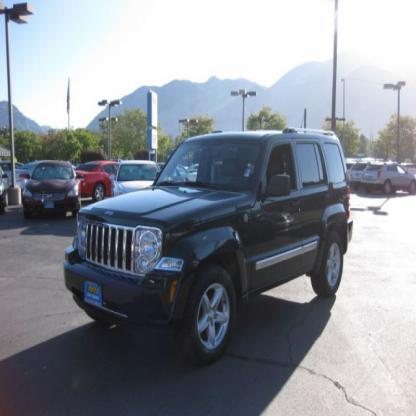Vehicle: (61, 126, 356, 372)
